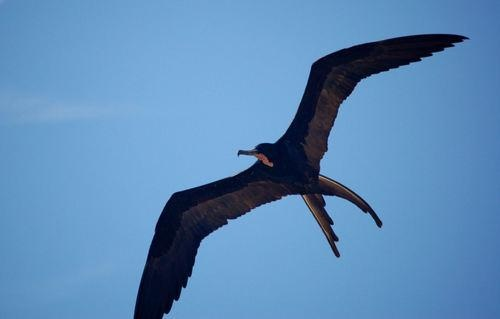bird: (134, 33, 472, 316)
